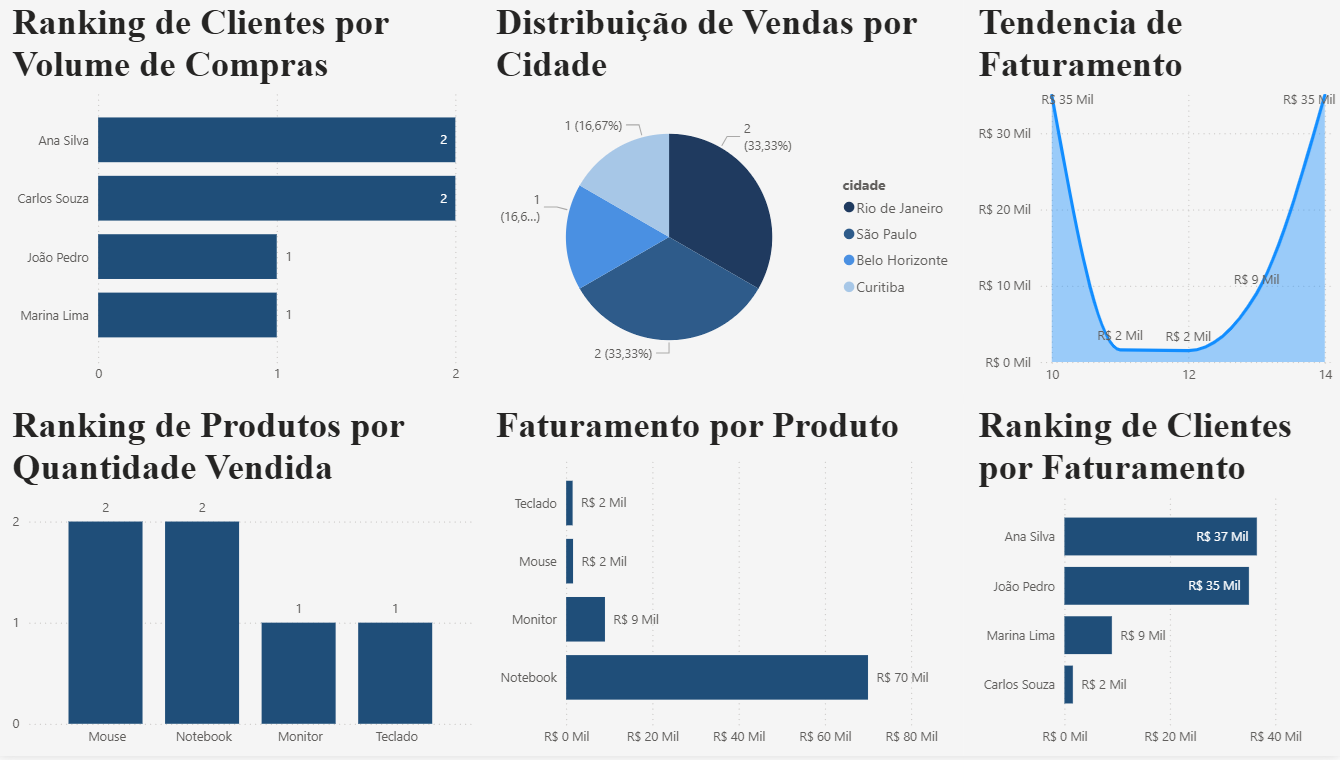

The page's visual inventory and layout, read from the dashboard file:
{"tool":"powerbi","page":{"name":"Página 1","canvas":[1280,720],"ordinal":0},"visuals":[{"type":"barChart","title":"Ranking de Clientes por Volume de Compras","fields":{"Category":["clientes cvs.nome"],"Y":["Sum(vendas cvs.quantidade)"]},"box":[9.6,0,450.1,374.6],"z":0},{"type":"clusteredColumnChart","title":"Ranking de Produtos por Quantidade Vendida","fields":{"Category":["produtos cvs.nome_produto"],"Y":["Sum(vendas cvs.quantidade)"]},"box":[10,385,450,335],"z":1000},{"type":"pieChart","title":"Distribuição de Vendas por Cidade","fields":{"Category":["clientes cvs.cidade"],"Y":["Sum(vendas cvs.quantidade)"]},"box":[470,0,450,375],"z":2000},{"type":"clusteredBarChart","title":"Faturamento por Produto","fields":{"Category":["produtos cvs.nome_produto"],"Y":["clientes cvs.Faturamento"]},"box":[470,385,450,335],"z":2001},{"type":"areaChart","title":"Tendencia de Faturamento","fields":{"Category":["vendas cvs.data_venda.Variation.Hierarquia de datas.Dia"],"Y":["clientes cvs.Faturamento"]},"box":[930,0,350,375],"z":2002},{"type":"clusteredBarChart","title":"Ranking de Clientes por Faturamento","fields":{"Category":["clientes cvs.nome"],"Y":["clientes cvs.Faturamento"]},"box":[930,385,350,335],"z":2003}]}

Visuals, with their boxes in screenshot pixels (x1, y1, x2, y2), scaled from the page's 1280x720 canvas onto the 1340x760 screenshot:
"Ranking de Clientes por Volume de Compras" barChart: rect(10, 0, 481, 395)
"Ranking de Produtos por Quantidade Vendida" clusteredColumnChart: rect(10, 406, 482, 759)
"Distribuição de Vendas por Cidade" pieChart: rect(492, 0, 963, 396)
"Faturamento por Produto" clusteredBarChart: rect(492, 406, 963, 759)
"Tendencia de Faturamento" areaChart: rect(974, 0, 1339, 396)
"Ranking de Clientes por Faturamento" clusteredBarChart: rect(974, 406, 1339, 759)
